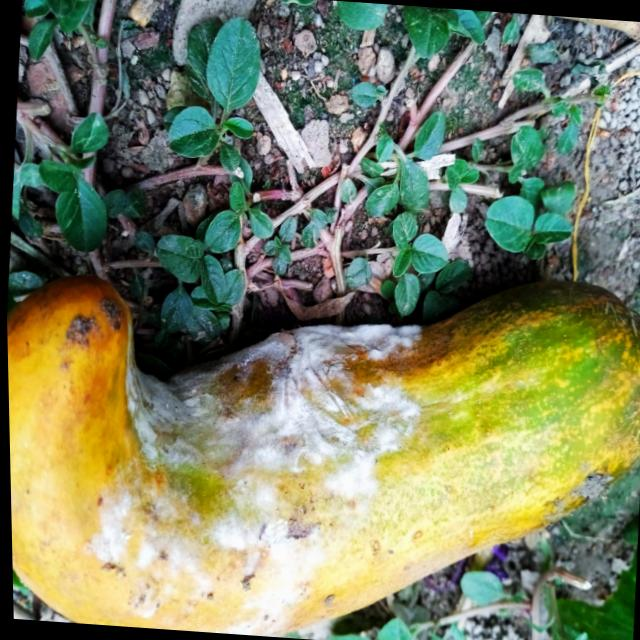Pythium-Fruit-Rot: (71, 299, 431, 640)
